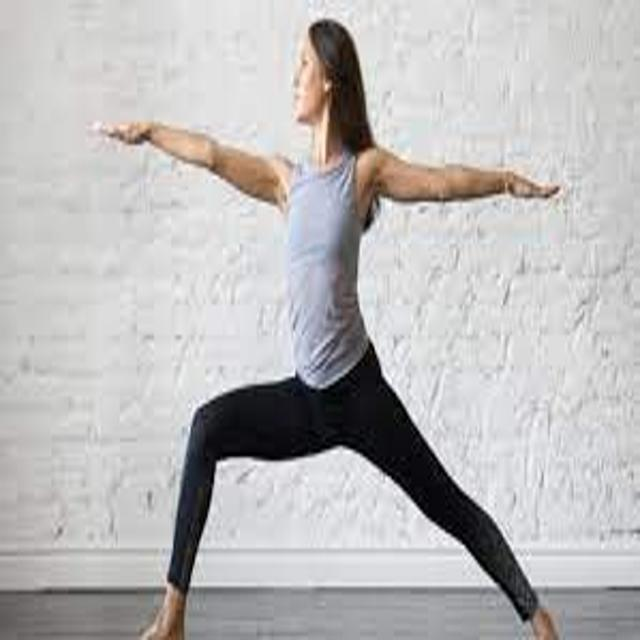Warrior_II: (87, 17, 568, 640)
